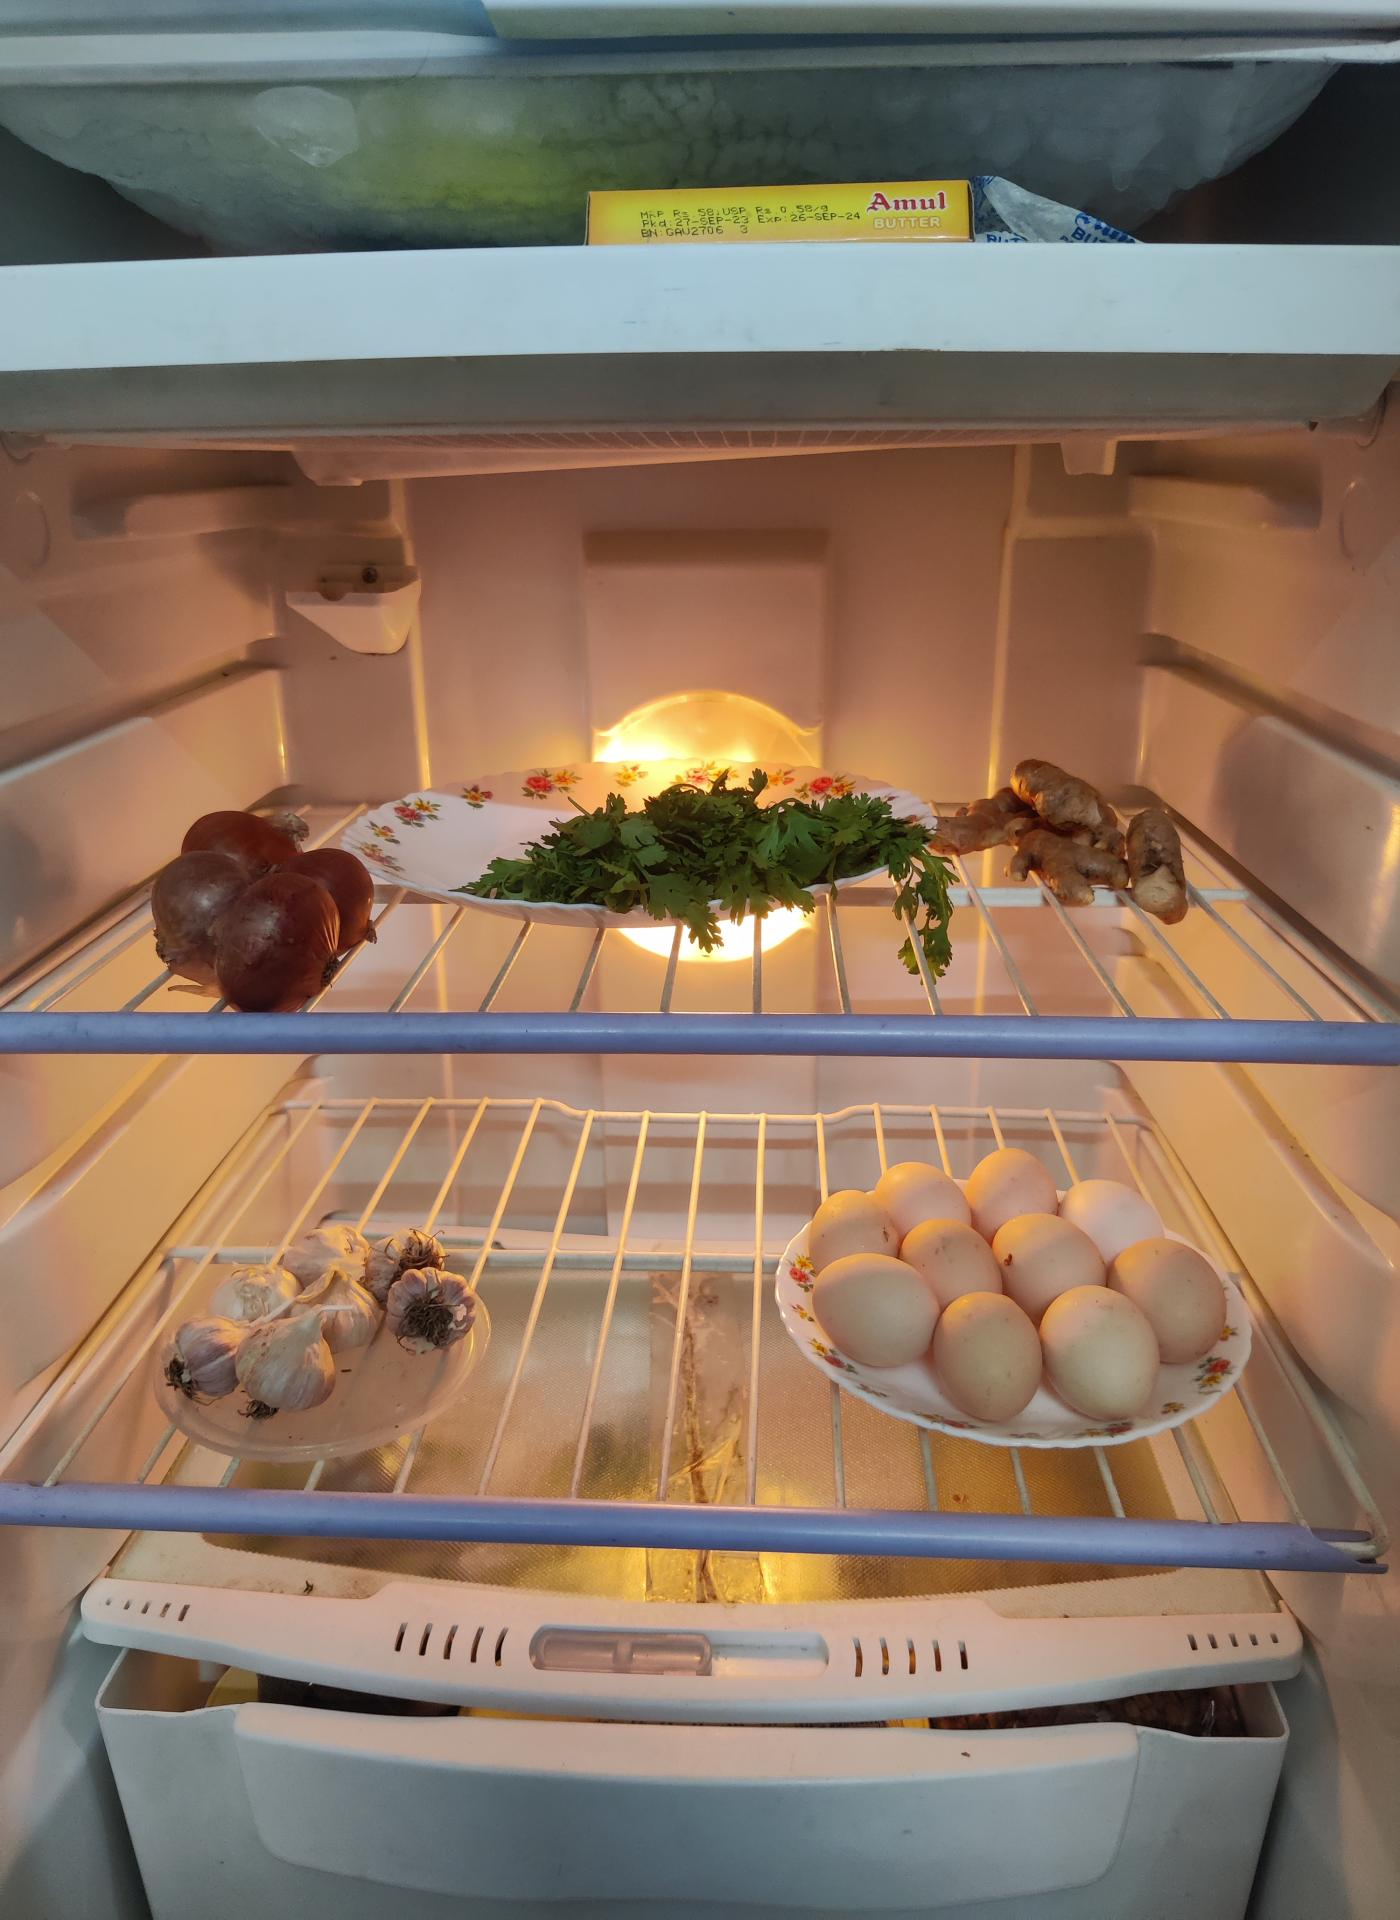coriander: (514, 765, 947, 961)
egg: (790, 1142, 1220, 1425)
garlic: (179, 1210, 479, 1430)
ginger: (963, 754, 1208, 941)
onion: (155, 802, 379, 1003)
